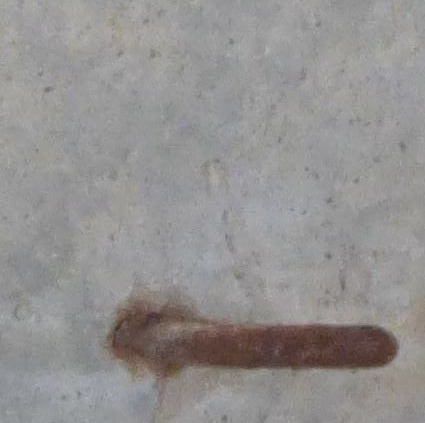Exposed reinforcement: (130, 321, 398, 371)
